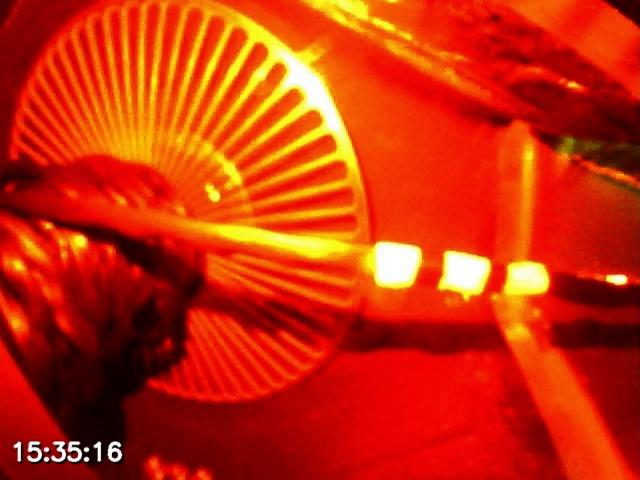white-dots: (370, 241, 550, 300)
